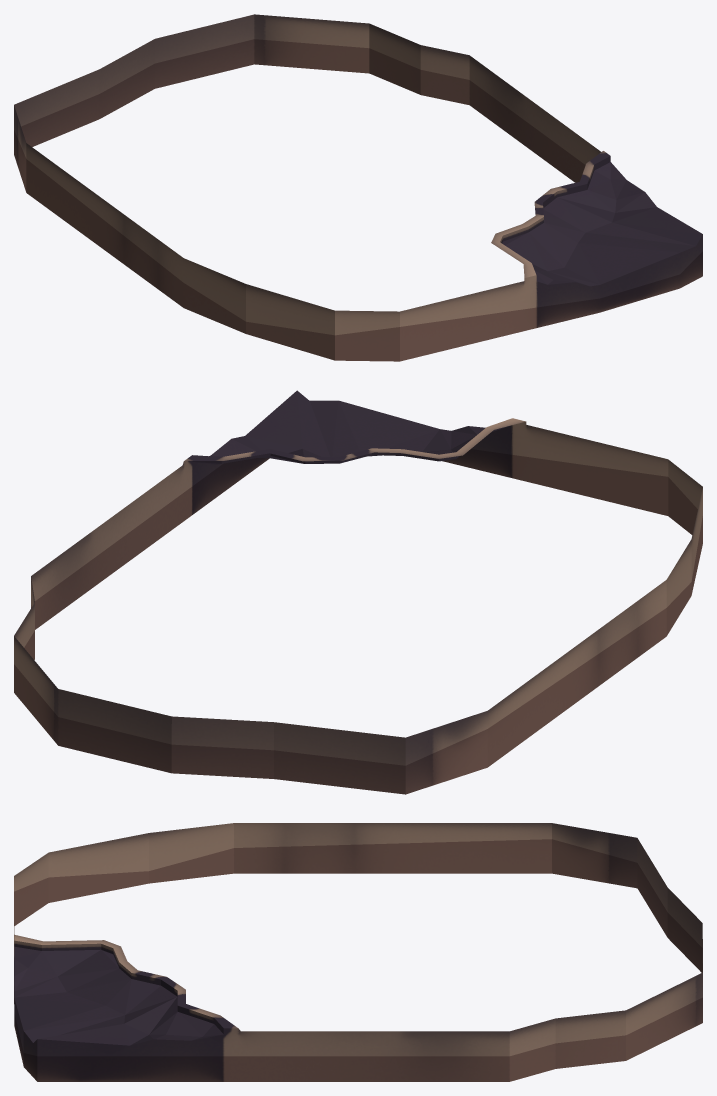
Rendered from Ground_02.FBX.
3 views of the same model, one above another, from view 1: azimuth 30°, elevation 25°; view 2: azimuth 150°, elevation 25°; view 3: azimuth 270°, elevation 25° (orthographic). The views are drawn at different scales.
Visible parts, largest first — view 1: Ground_02; view 2: Ground_02; view 3: Ground_02.
Boxes of the visible parts, box(x1,y1,x2,y2) form: Ground_02: box(14, 14, 702, 361); Ground_02: box(14, 390, 702, 794); Ground_02: box(14, 823, 702, 1081).
Size of the model in its own units: 17.61 by 2.11 by 24.62.
